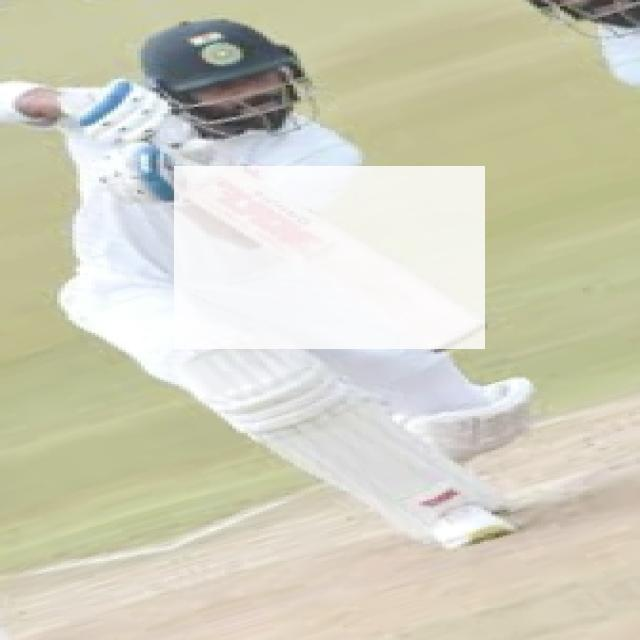bat: (170, 165, 488, 348)
toe: (439, 324, 485, 347)
